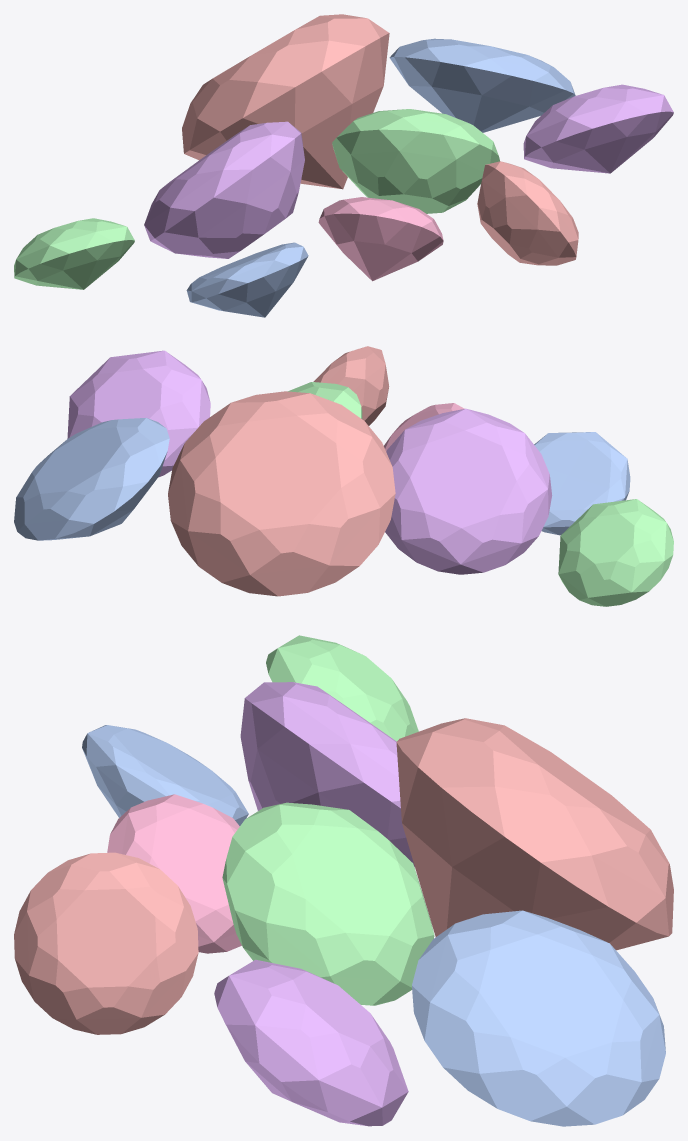
File: jewels_303.obj
The picture shows the model from 3 angles, top to bottom: view 1: azimuth 30°, elevation 25°; view 2: azimuth 150°, elevation 25°; view 3: azimuth 270°, elevation 25°; orthographic projection. The views are drawn at different scales.
Visible parts, largest first — view 1: jewels_303_03, jewels_303_05, jewels_303_01, jewels_303_02, jewels_303_07, jewels_303_06, jewels_303_08, jewels_303_04, jewels_303_09; view 2: jewels_303_03, jewels_303_05, jewels_303_02, jewels_303_04, jewels_303_07, jewels_303_09, jewels_303_06, jewels_303_01, jewels_303_08; view 3: jewels_303_03, jewels_303_02, jewels_303_01, jewels_303_06, jewels_303_07, jewels_303_05, jewels_303_08, jewels_303_09, jewels_303_04.
Boxes of the visible parts, x1,y1,x2,y2 form: jewels_303_03: (182, 14, 389, 189); jewels_303_05: (144, 121, 304, 258); jewels_303_01: (332, 109, 499, 213); jewels_303_02: (389, 38, 575, 132); jewels_303_07: (523, 84, 673, 173); jewels_303_06: (477, 161, 578, 265); jewels_303_08: (318, 197, 443, 281); jewels_303_04: (14, 218, 134, 289); jewels_303_09: (186, 242, 308, 317); jewels_303_03: (168, 391, 395, 596); jewels_303_05: (385, 408, 552, 574); jewels_303_02: (14, 418, 169, 540); jewels_303_04: (558, 499, 673, 606); jewels_303_07: (67, 350, 210, 477); jewels_303_09: (534, 432, 630, 535); jewels_303_06: (313, 346, 389, 425); jewels_303_01: (287, 382, 362, 418); jewels_303_08: (384, 403, 464, 451); jewels_303_03: (396, 718, 673, 950); jewels_303_02: (412, 910, 665, 1126); jewels_303_01: (222, 802, 434, 1005); jewels_303_06: (14, 852, 198, 1034); jewels_303_07: (214, 959, 408, 1126); jewels_303_05: (240, 682, 414, 867); jewels_303_08: (107, 794, 241, 953); jewels_303_09: (82, 725, 248, 825); jewels_303_04: (266, 635, 418, 741).
Bounding box in the file's own units: 17.42 × 4.2 × 11.11.
